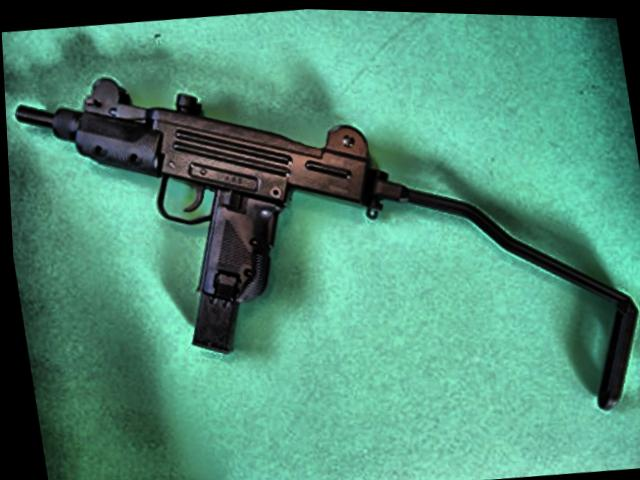pistol: (1, 33, 394, 383)
